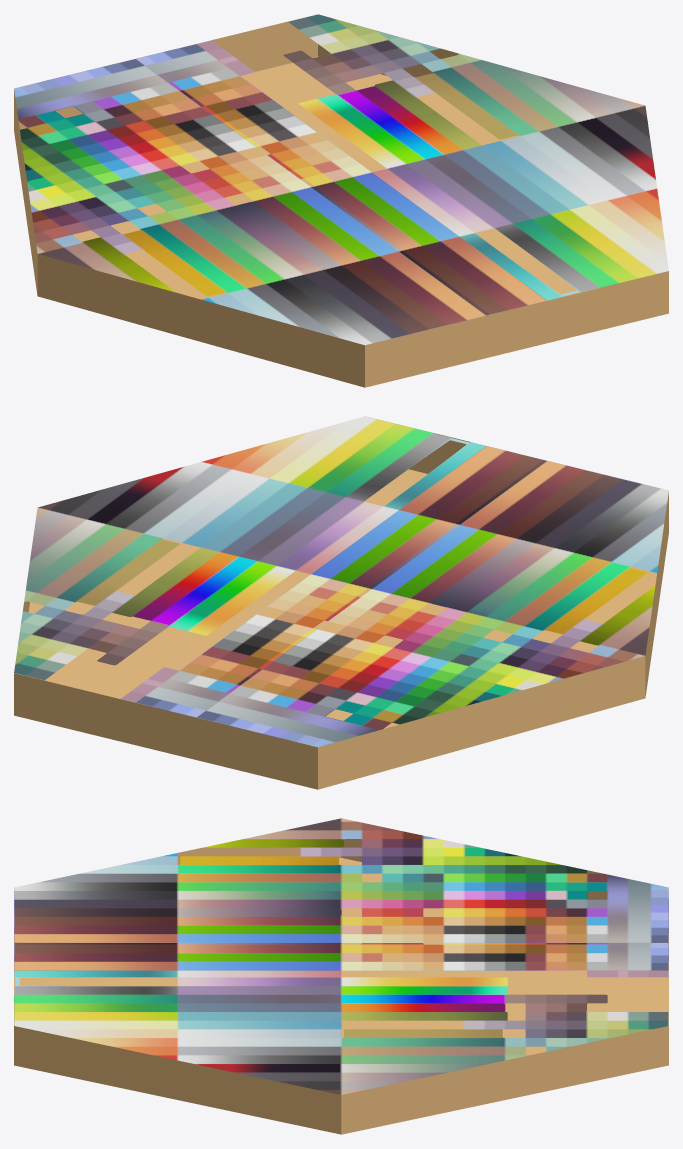
The model's file is Path1.fbx.
3 views of the same model, one above another, from view 1: azimuth 30°, elevation 25°; view 2: azimuth 150°, elevation 25°; view 3: azimuth 270°, elevation 25° (orthographic). The views are drawn at different scales.
Parts seen in each view (by area): view 1: Path1; view 2: Path1; view 3: Path1.
Part boxes in pixels (x1,y1,x2,y2): Path1: (14,14,668,387); Path1: (14,416,668,789); Path1: (14,818,668,1134).
Bounding box in the file's own units: 1500 × 100 × 1500.
